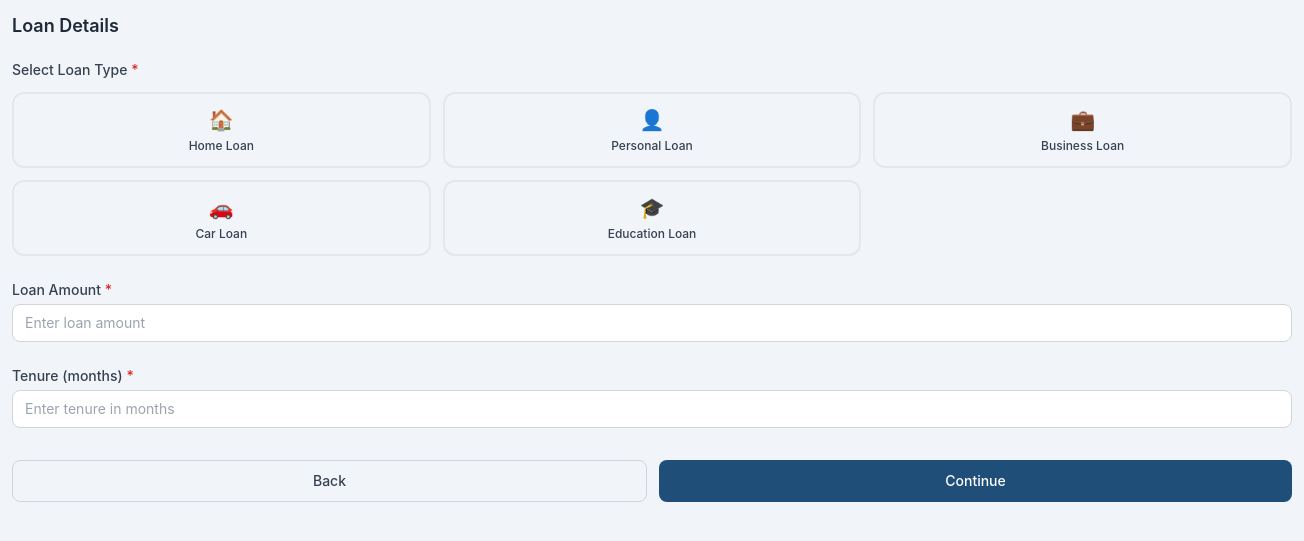
Test: LoanDetails component › shows validation errors when continue is clicked empty
What coordinates should you click on to do the following:
click the button "Continue"
I would click on:
 (976, 481)
Its box is [659,460,1292,502].
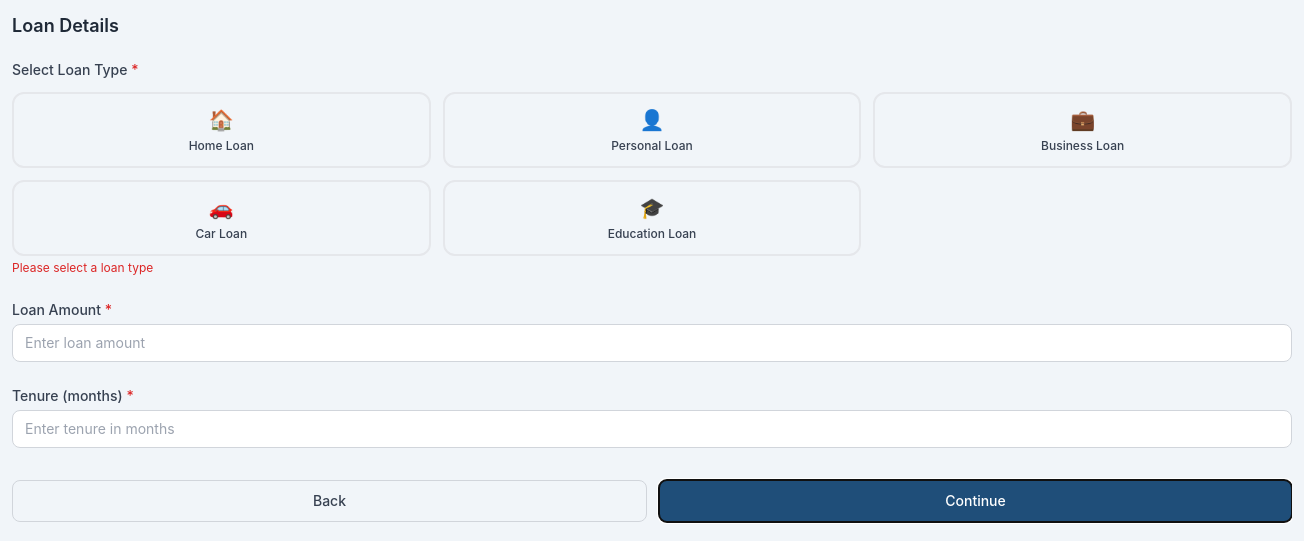
Now the message "Please select a loan type" is shown, box [12,260,153,275]
